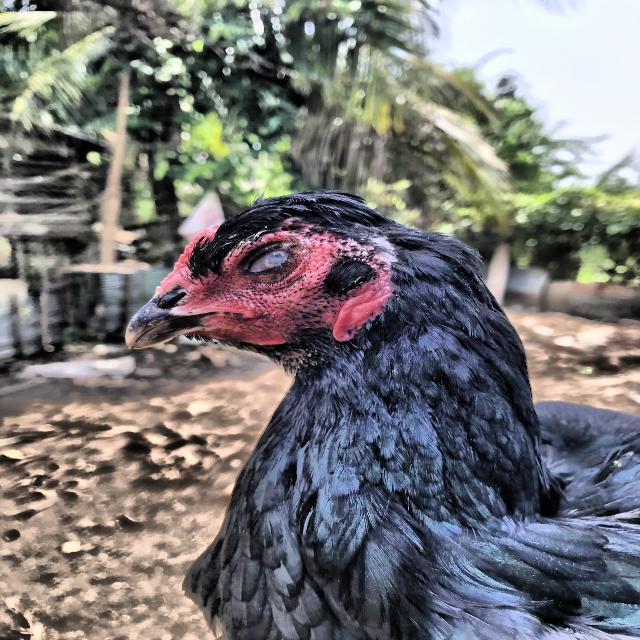Coryza: (85, 148, 581, 585)
